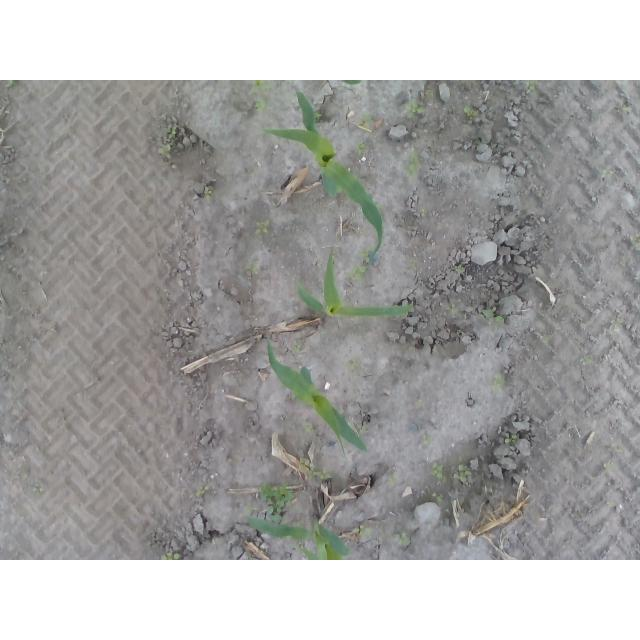Maize: (263, 83, 386, 266), (266, 337, 371, 454), (297, 252, 415, 321), (241, 505, 351, 560)
Weeds: (258, 480, 294, 520), (407, 151, 420, 178), (453, 464, 471, 483), (308, 468, 334, 481), (480, 309, 504, 323), (345, 265, 367, 280), (393, 531, 412, 546), (159, 144, 174, 161), (492, 374, 505, 393), (406, 102, 426, 114), (250, 80, 265, 96), (255, 219, 270, 235), (431, 463, 443, 480), (353, 524, 370, 536), (504, 431, 518, 445), (345, 356, 360, 369), (160, 552, 181, 561), (388, 473, 401, 487), (527, 80, 537, 97), (196, 485, 209, 498), (363, 111, 374, 126), (203, 186, 213, 202), (610, 320, 622, 333), (580, 355, 592, 367), (246, 262, 258, 274), (353, 249, 369, 258), (464, 106, 477, 117), (631, 232, 640, 247), (303, 422, 314, 434), (4, 80, 17, 90), (421, 435, 432, 446), (357, 143, 368, 154), (167, 128, 178, 139), (255, 100, 265, 112), (31, 486, 45, 494), (292, 343, 303, 353), (602, 170, 614, 179), (456, 266, 467, 275), (246, 506, 258, 513), (446, 304, 455, 313), (314, 111, 322, 121), (603, 463, 610, 474), (437, 495, 444, 504), (624, 107, 632, 114)
